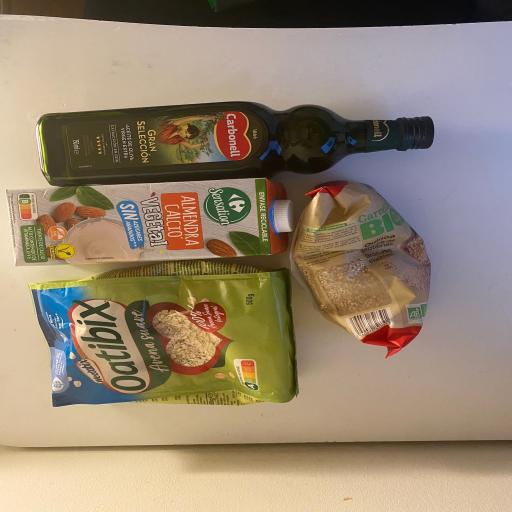almond_milk: (1, 176, 293, 270)
olive_oil: (35, 95, 442, 188)
